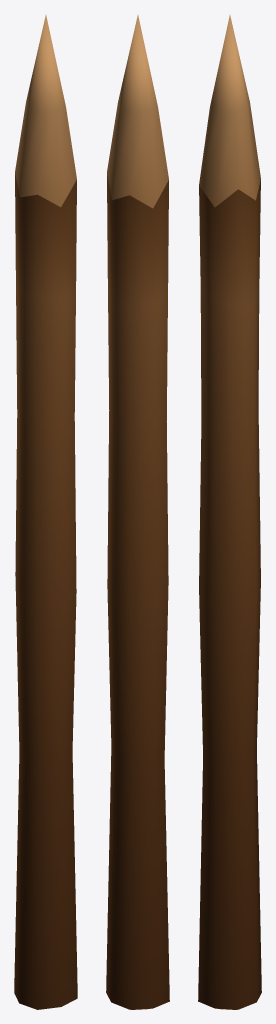
Rendered from Spear_01.obj.
The picture shows the model from 3 angles, left to right: view 1: azimuth 30°, elevation 25°; view 2: azimuth 210°, elevation 25°; view 3: azimuth 330°, elevation 25°; orthographic projection.
Visible parts, largest first — view 1: Spear_01; view 2: Spear_01; view 3: Spear_01.
Part boxes in pixels (x1=…): Spear_01: x1=14, y1=15, x2=77, y2=1009; Spear_01: x1=106, y1=15, x2=169, y2=1009; Spear_01: x1=198, y1=15, x2=261, y2=1009.
Size of the model in its own units: 0.0865 by 1.53 by 0.0866.
